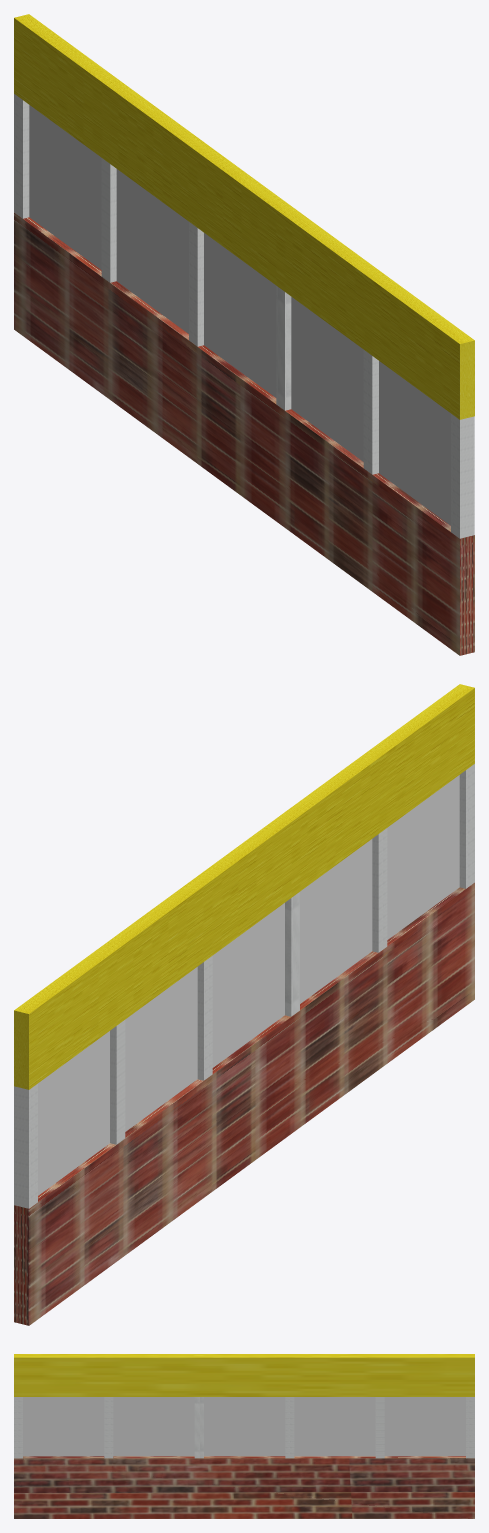
The model's file is WaffleHouseWall1.fbx.
The picture shows the model from 3 angles, top to bottom: view 1: azimuth 30°, elevation 25°; view 2: azimuth 150°, elevation 25°; view 3: azimuth 270°, elevation 25°; orthographic projection. The views are drawn at different scales.
Parts seen in each view (by area): view 1: Cube.014, Cube; view 2: Cube.014, Cube; view 3: Cube.014, Cube.
Boxes of the visible parts, <box> form: Cube.014: <box>14,14,474,655</box>; Cube: <box>29,105,450,525</box>; Cube.014: <box>14,684,474,1325</box>; Cube: <box>38,775,459,1195</box>; Cube.014: <box>14,1354,474,1518</box>; Cube: <box>23,1397,465,1456</box>.
Size of the model in its own units: 0.2 by 3.94 by 10.2.
Materials: 3 (3 with a texture image).
